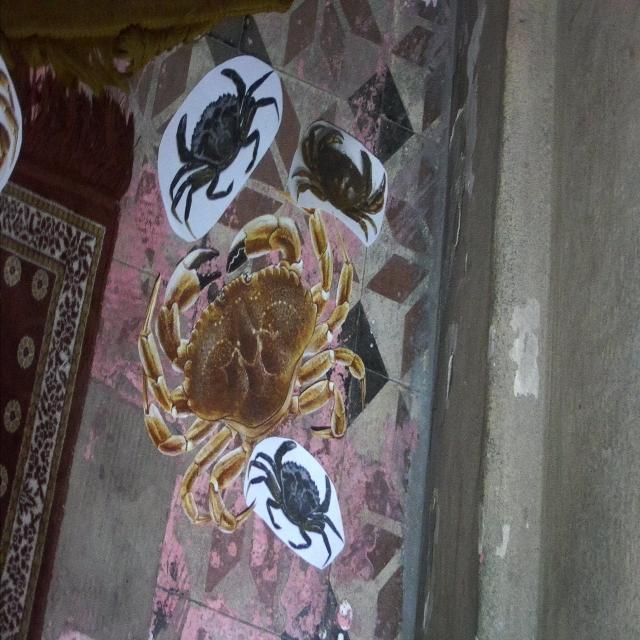European_Green_Crab: (150, 27, 289, 252), (242, 413, 352, 581)
